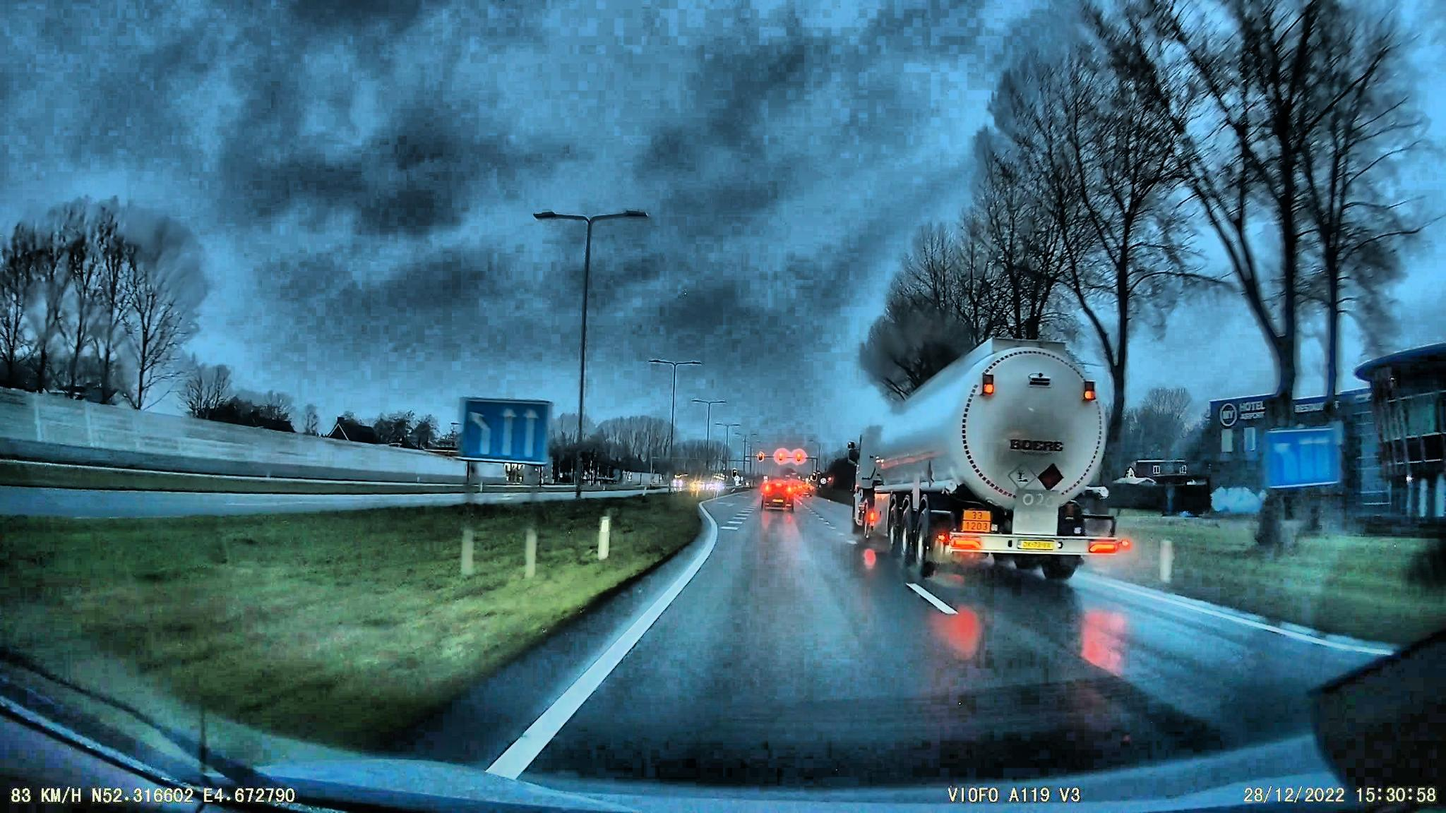Roads: (413, 487, 1392, 805)
